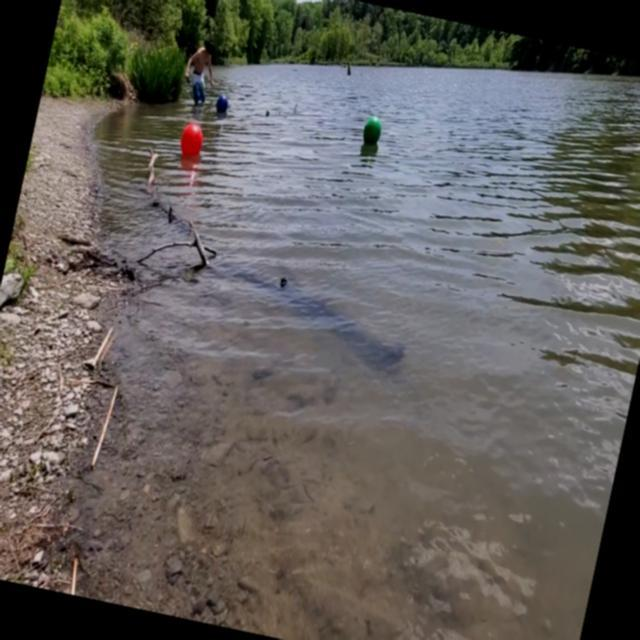buoy: (174, 118, 208, 162), (358, 110, 386, 152), (213, 94, 230, 117)
